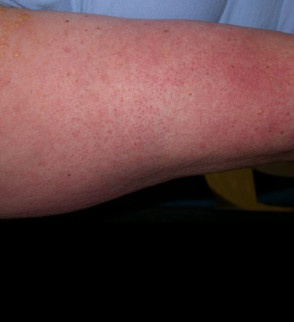SJS-TEN: (42, 0, 294, 212), (0, 4, 38, 87)
